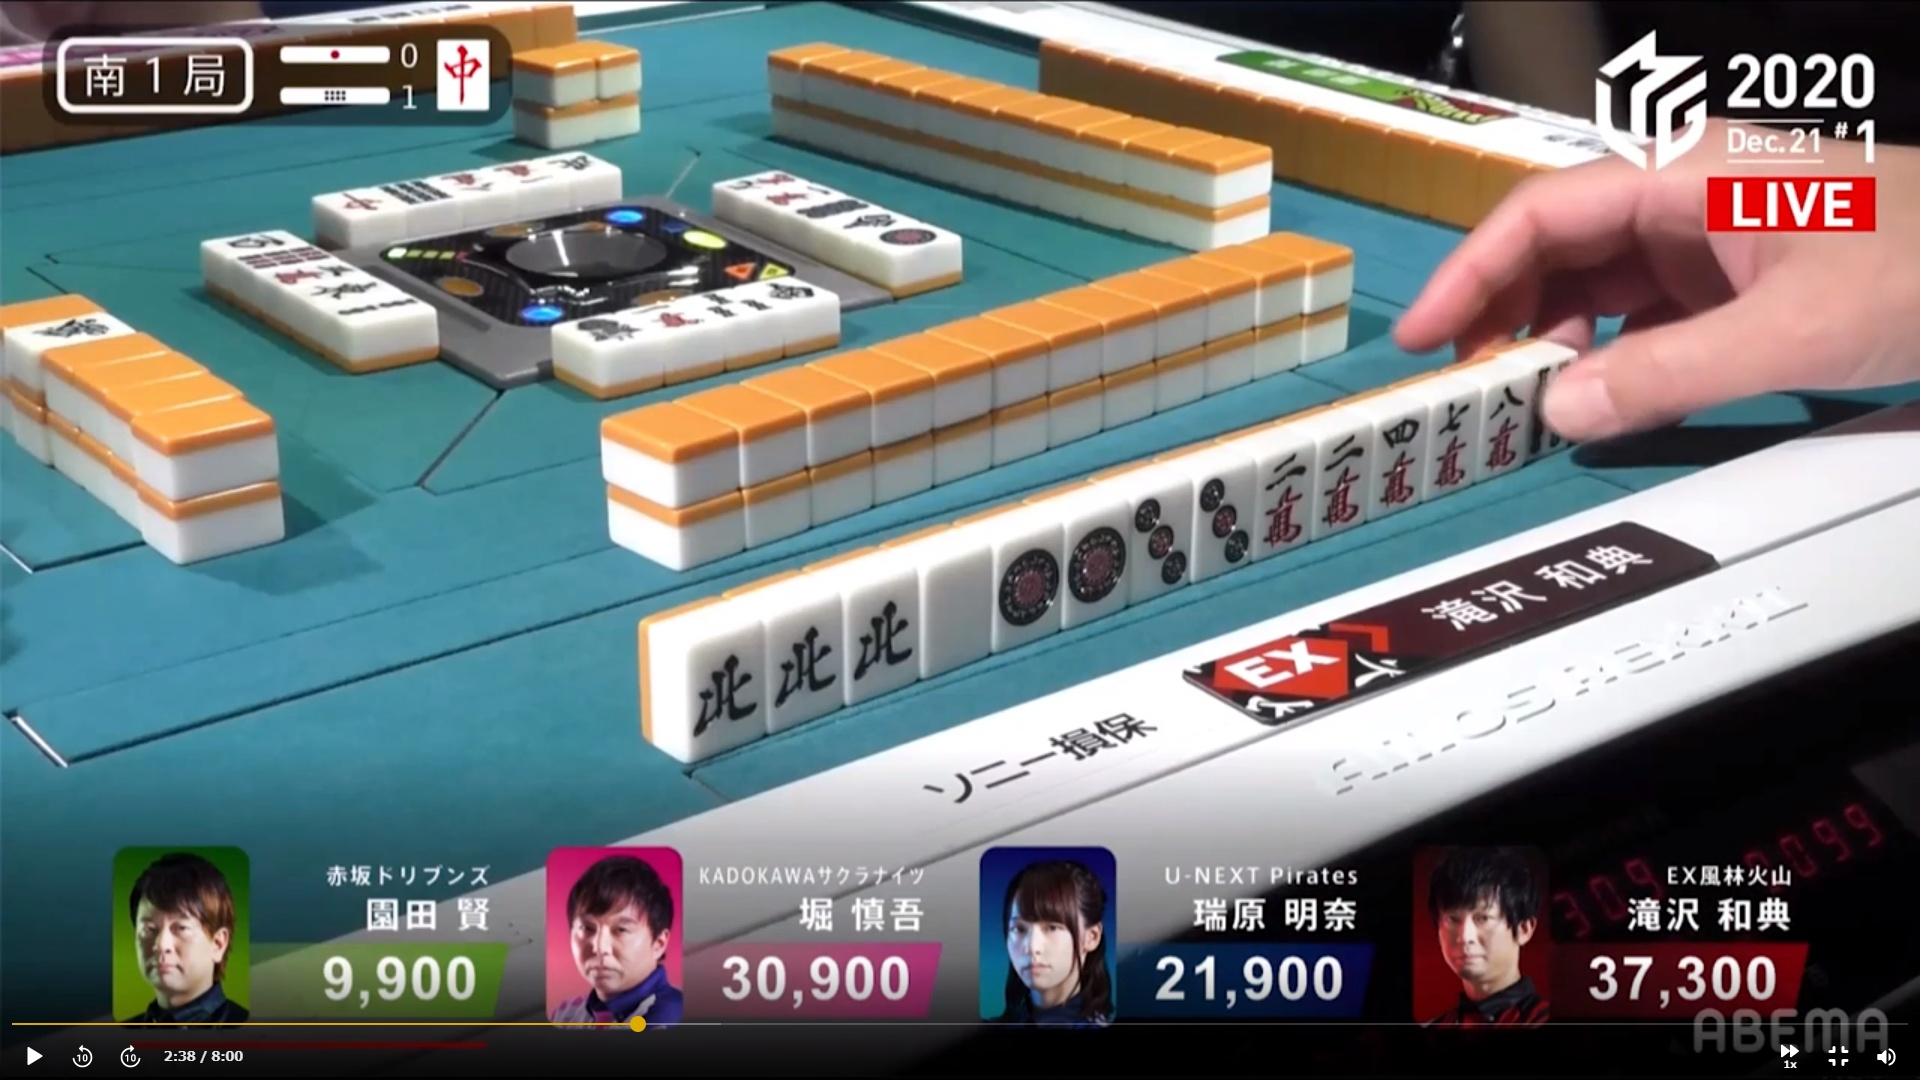1p: (997, 531, 1058, 646), (1067, 512, 1127, 624)
2m: (1313, 425, 1367, 538), (1251, 448, 1309, 553)
3p: (1129, 488, 1188, 601), (1196, 465, 1249, 582)
4m: (1373, 407, 1422, 512)
7m: (1423, 390, 1473, 493)
8m: (1478, 375, 1522, 475)
haku: (924, 527, 992, 669)
hand_nan_1: (50, 33, 262, 113)
pei: (843, 572, 924, 696), (687, 626, 762, 749), (767, 601, 843, 724)
round_1: (268, 80, 419, 116)
team_exfurinkazan: (1183, 607, 1439, 729)
